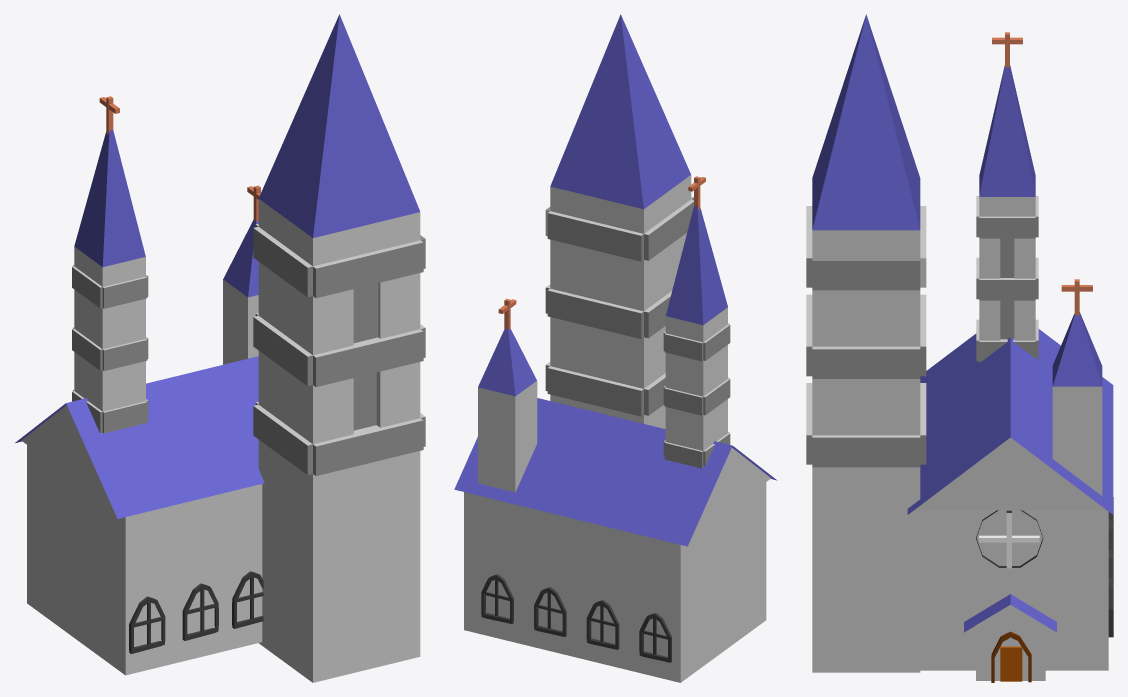
The model's file is ChurchType1-Fix5.fbx.
The picture shows the model from 3 angles, left to right: view 1: azimuth 30°, elevation 25°; view 2: azimuth 150°, elevation 25°; view 3: azimuth 270°, elevation 25°; orthographic projection. The views are drawn at different scales.
Visible parts, largest first — view 1: Main Building; view 2: Main Building; view 3: Main Building.
Boxes of the visible parts, x1,y1,x2,y2 form: Main Building: (15,14,425,682); Main Building: (454,14,777,682); Main Building: (806,14,1113,682).
Bounding box in the file's own units: 2355 × 5023 × 2214.
